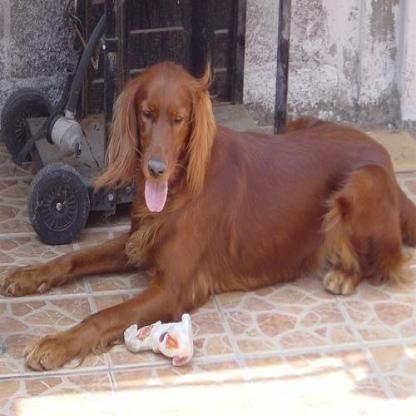Irish_setter: (1, 57, 414, 370)
